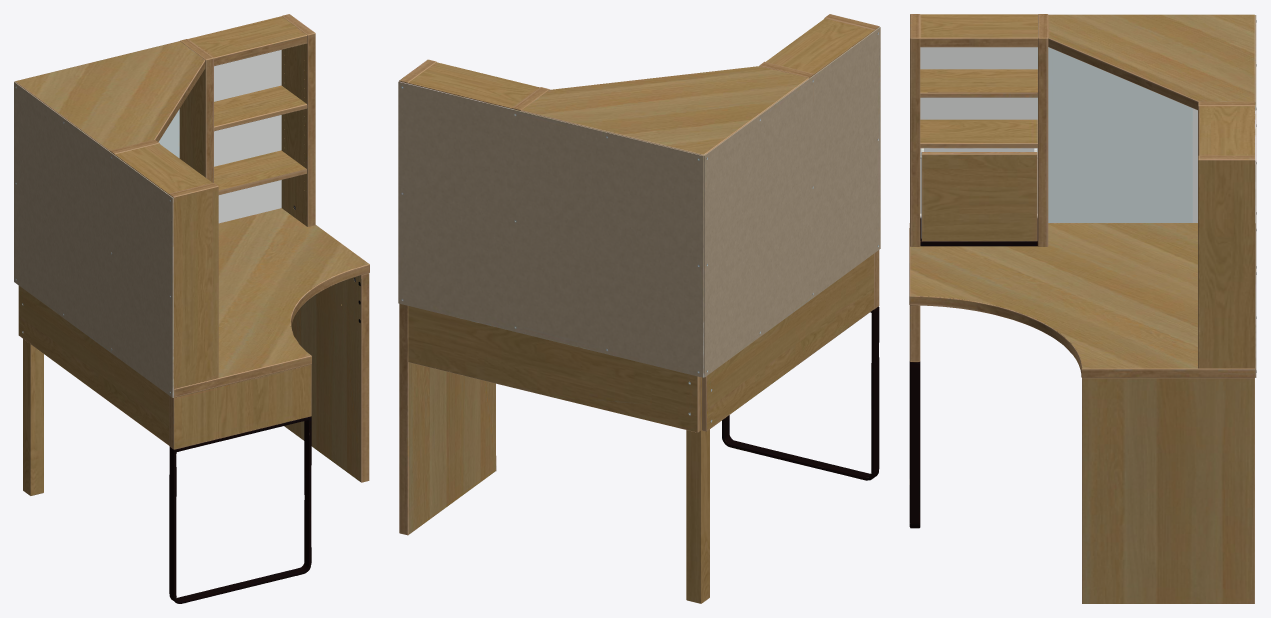
File: MICKE_50244741.glb
3 views of the same model, side by side, from view 1: azimuth 30°, elevation 25°; view 2: azimuth 150°, elevation 25°; view 3: azimuth 270°, elevation 25° (orthographic). The views are drawn at different scales.
Parts seen in each view (by area): view 1: model; view 2: model; view 3: model.
Part boxes in pixels (box(x1,y1,x2,y2)): model: box(14, 14, 369, 603); model: box(398, 14, 880, 603); model: box(909, 14, 1256, 603).
Bounding box in the file's own units: 0.999 × 1.41 × 0.9987.
1 material, 1 textured.
